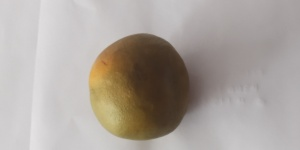BAD: (87, 30, 191, 143)
